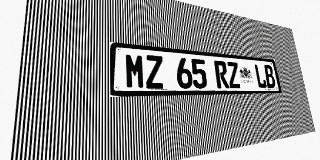5: (191, 59, 208, 88)
6: (175, 57, 193, 89)
B: (263, 65, 276, 88)
L: (254, 64, 267, 88)
M: (125, 53, 146, 89)
R: (214, 60, 229, 88)
Z: (145, 55, 164, 89), (226, 61, 241, 88)
